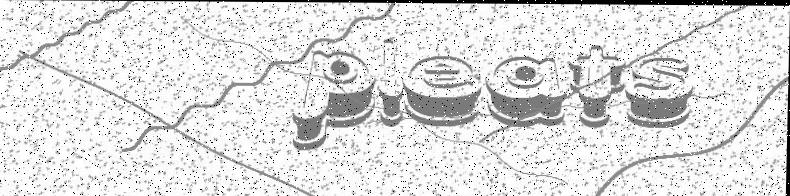a: (486, 56, 568, 125)
e: (403, 55, 482, 126)
l: (376, 38, 405, 126)
p: (293, 50, 376, 150)
s: (627, 57, 693, 126)
t: (568, 45, 622, 128)
